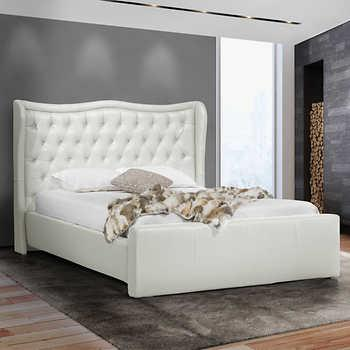bed: (11, 95, 345, 314)
